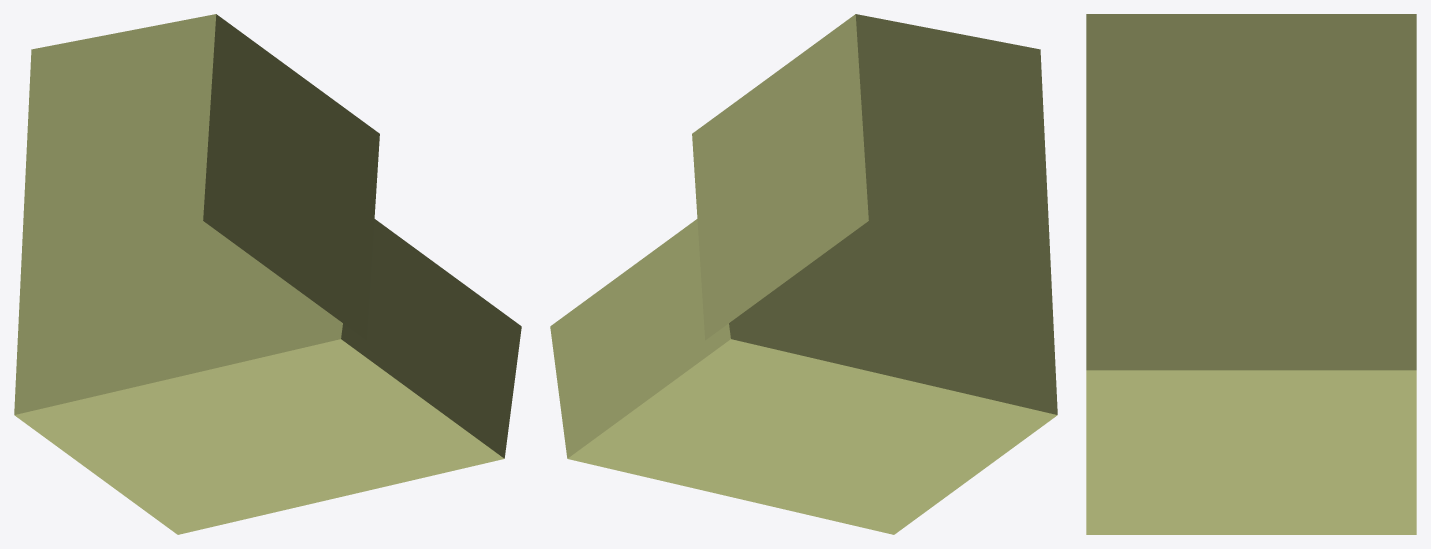
The picture shows the model from 3 angles, left to right: view 1: azimuth 30°, elevation 25°; view 2: azimuth 150°, elevation 25°; view 3: azimuth 270°, elevation 25°; orthographic projection.
Visible parts, largest first — view 1: 0_3_0_2_1_2_1_1_1_1; view 2: 0_3_0_2_1_2_1_1_1_1; view 3: 0_3_0_2_1_2_1_1_1_1.
Part boxes in pixels (x1,y1,x2,y2): 0_3_0_2_1_2_1_1_1_1: (14,14,521,534); 0_3_0_2_1_2_1_1_1_1: (550,14,1057,534); 0_3_0_2_1_2_1_1_1_1: (1086,14,1416,534).
Bounding box in the file's own units: 7.28 × 7.39 × 6.
